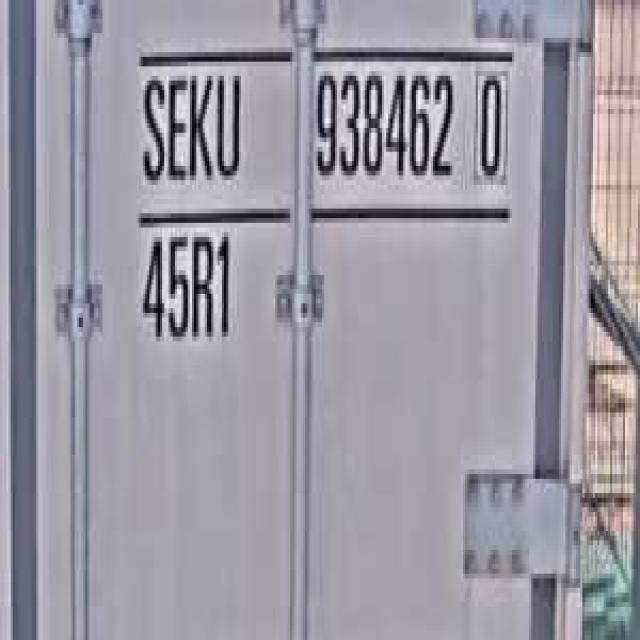dv: (469, 52, 512, 190)
owner: (137, 62, 246, 194)
serial: (312, 57, 456, 194)
size: (134, 223, 239, 355)
